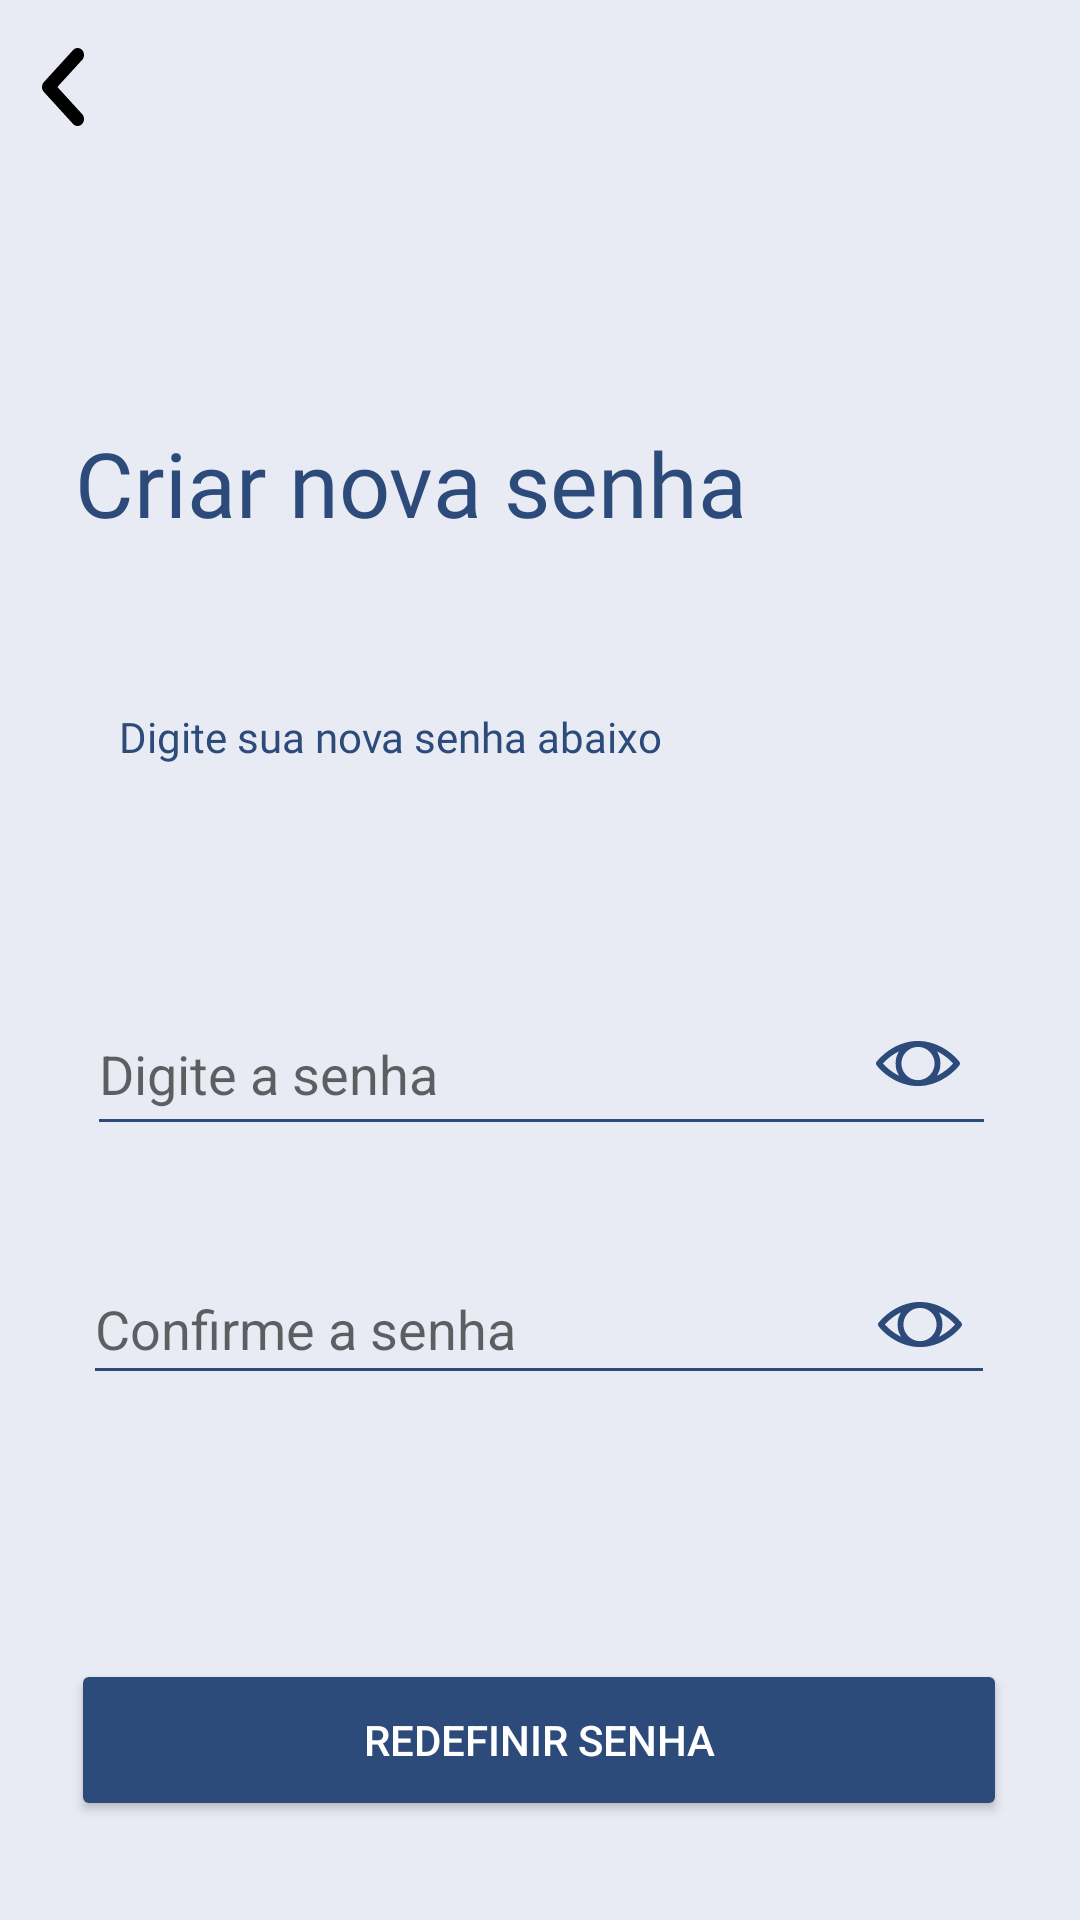

Icons on this 1080×1920 Android screen, each with the point to tap as (x=x, y=y):
olho azul: (x=918, y=1063), (x=920, y=1324)
seta: (x=63, y=87)
